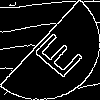E: (25, 25, 84, 80)
